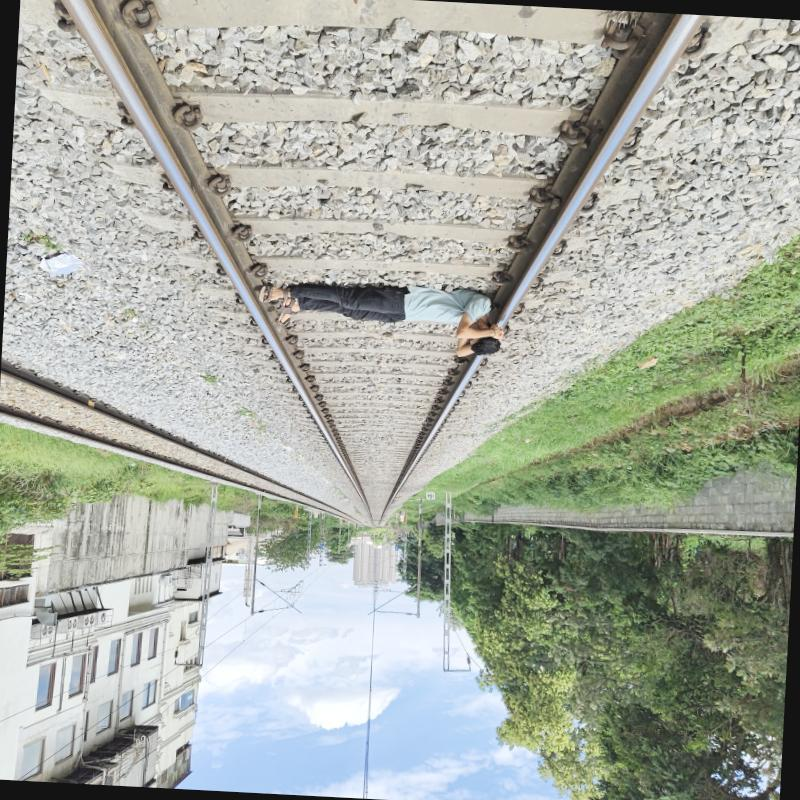sleeping: (251, 278, 518, 362)
